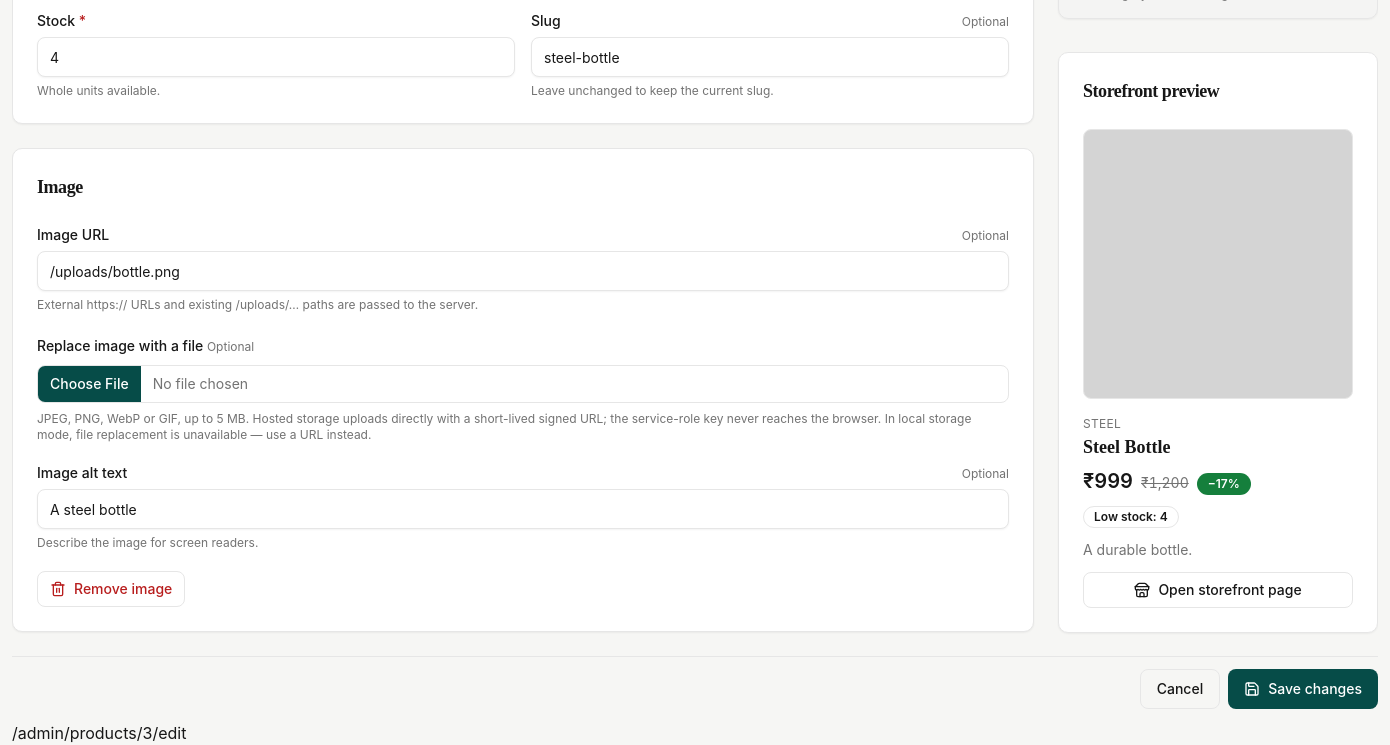
Test case: AdminProductFormPage › removes an existing image explicitly
(page scrolled)
Click the button "Remove image" at x=111, y=589, box [37,571,185,607]
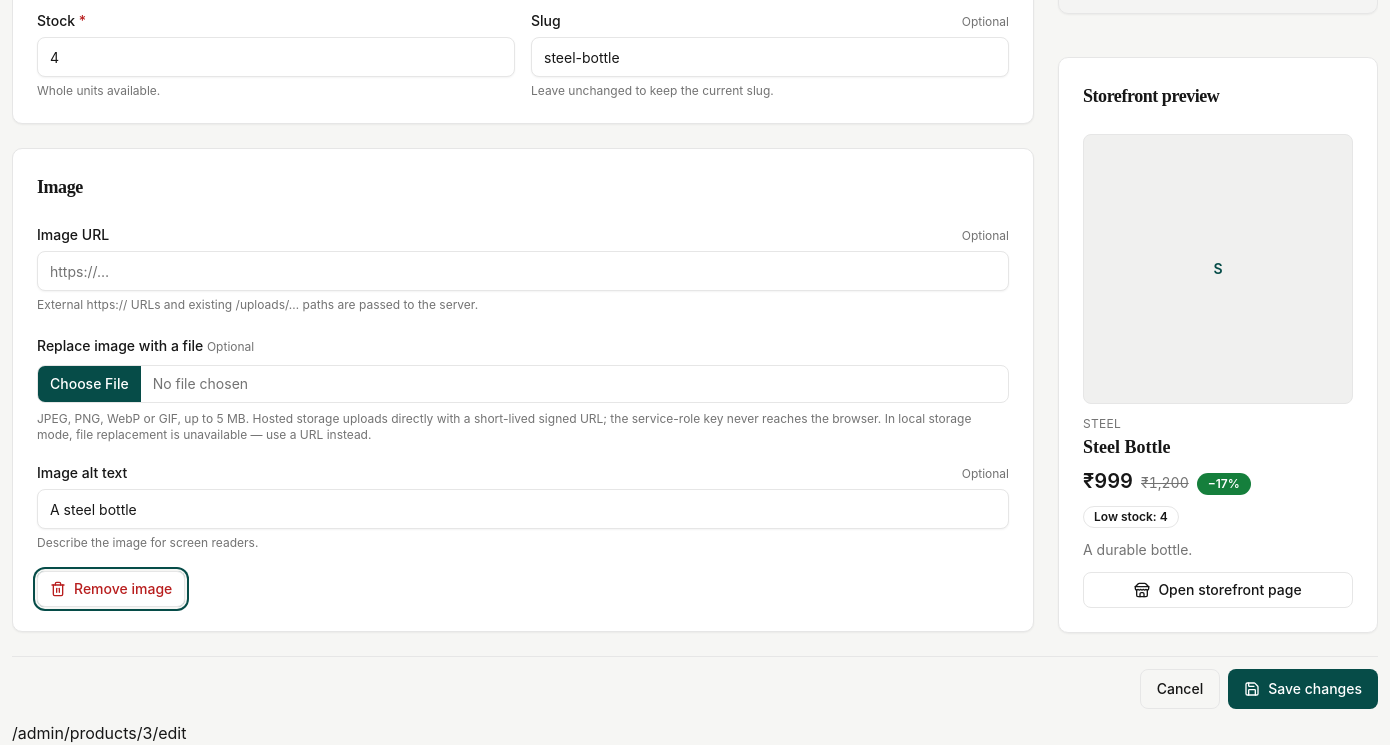
Click the button "Save changes" at x=1303, y=689, box [1228,669,1378,709]
(page scrolled)
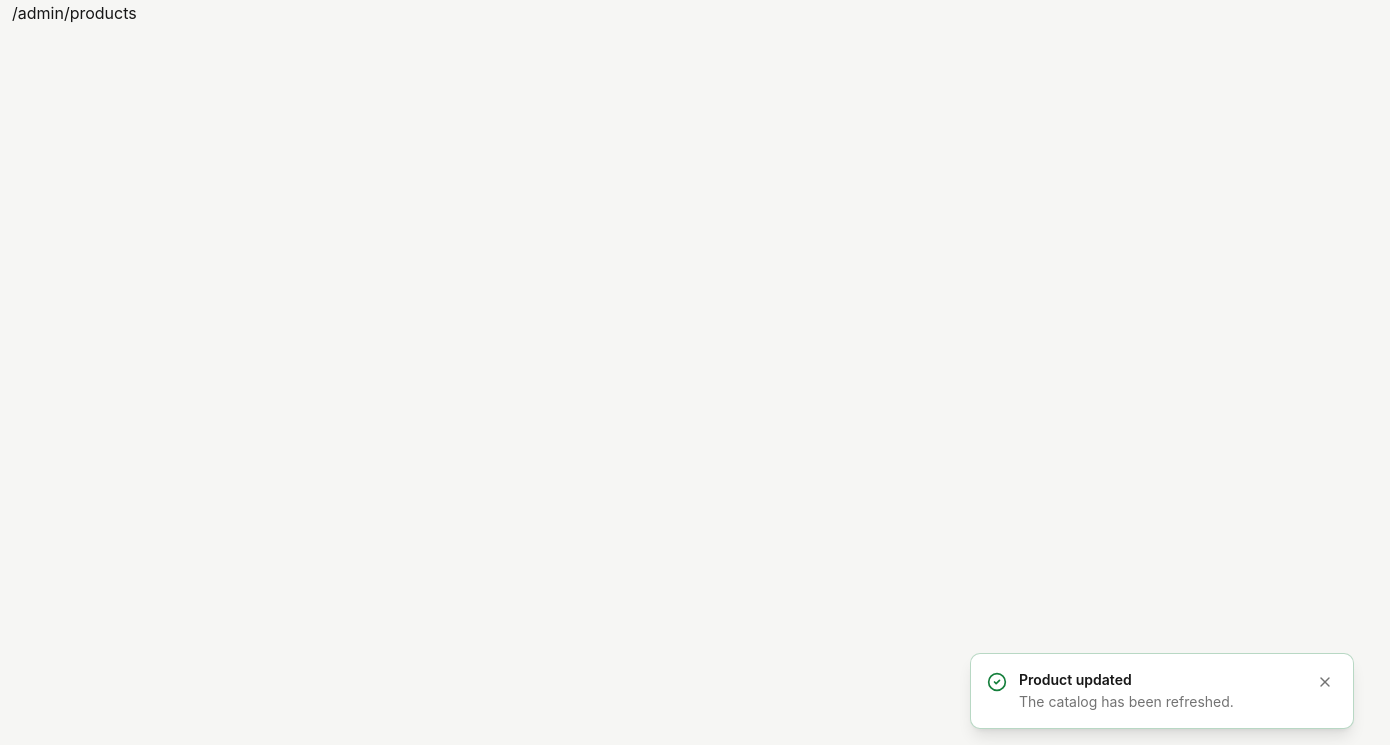
Result: the text "Product updated" is shown at [1019,671,1132,688]
